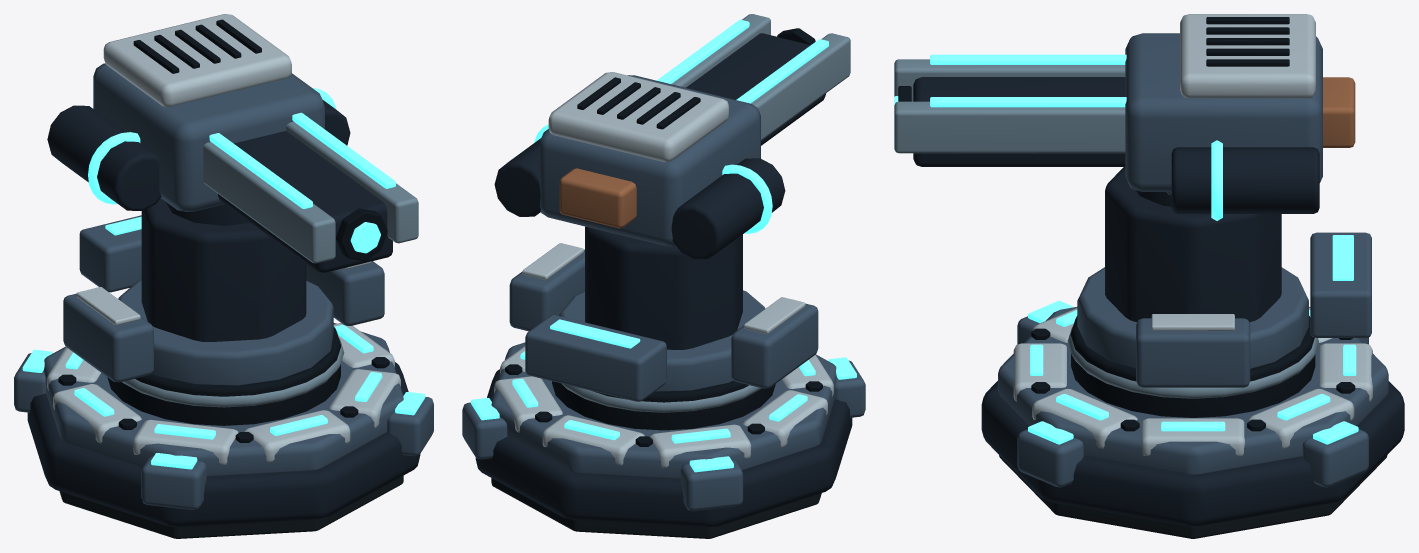
File: needle_turret.fbx
The picture shows the model from 3 angles, left to right: view 1: azimuth 30°, elevation 25°; view 2: azimuth 150°, elevation 25°; view 3: azimuth 270°, elevation 25°; orthographic projection. The views are drawn at different scales.
Parts seen in each view (by area): view 1: Recoil_Geometry, Base_Geometry, Yaw_Geometry, Tier3_Cooling_Geometry, Tier2_Capacitor_Geometry, Apex_sector_3_Geometry, Apex_sector_0_Geometry, Apex_sector_2_Geometry, Tier2_Light_07_Geometry, Tier3_Light_06_Geometry, Tier3_Light_02_Geometry; view 2: Recoil_Geometry, Base_Geometry, Yaw_Geometry, Tier3_Cooling_Geometry, Tier2_Capacitor_Geometry, Apex_sector_2_Geometry, Apex_sector_1_Geometry, Apex_sector_3_Geometry, Tier3_Light_05_Geometry; view 3: Recoil_Geometry, Base_Geometry, Yaw_Geometry, Tier3_Cooling_Geometry, Tier2_Capacitor_Geometry, Apex_sector_0_Geometry, Apex_sector_1_Geometry, Apex_sector_3_Geometry, Tier3_Light_02_Geometry, Tier3_Light_03_Geometry, Tier2_Light_01_Geometry.
Boxes of the visible parts, <box> form: Recoil_Geometry: <box>47,14,418,272</box>; Base_Geometry: <box>27,323,420,538</box>; Yaw_Geometry: <box>118,198,333,385</box>; Tier3_Cooling_Geometry: <box>63,261,384,382</box>; Tier2_Capacitor_Geometry: <box>79,215,141,292</box>; Apex_sector_3_Geometry: <box>141,453,206,509</box>; Apex_sector_0_Geometry: <box>387,392,433,456</box>; Apex_sector_2_Geometry: <box>14,349,52,412</box>; Tier2_Light_07_Geometry: <box>154,424,215,439</box>; Tier3_Light_06_Geometry: <box>74,388,114,416</box>; Tier3_Light_02_Geometry: <box>334,324,373,353</box>; Recoil_Geometry: <box>494,14,850,259</box>; Base_Geometry: <box>475,342,852,538</box>; Yaw_Geometry: <box>559,226,765,391</box>; Tier3_Cooling_Geometry: <box>509,243,818,388</box>; Tier2_Capacitor_Geometry: <box>525,315,666,401</box>; Apex_sector_2_Geometry: <box>680,456,743,511</box>; Apex_sector_1_Geometry: <box>462,398,507,459</box>; Apex_sector_3_Geometry: <box>828,357,865,417</box>; Tier3_Light_05_Geometry: <box>671,428,730,443</box>; Recoil_Geometry: <box>894,14,1355,220</box>; Base_Geometry: <box>981,307,1404,538</box>; Yaw_Geometry: <box>1077,167,1308,368</box>; Tier3_Cooling_Geometry: <box>1136,314,1250,387</box>; Tier2_Capacitor_Geometry: <box>1310,232,1371,337</box>; Apex_sector_0_Geometry: <box>1017,421,1083,487</box>; Apex_sector_1_Geometry: <box>1302,421,1368,487</box>; Apex_sector_3_Geometry: <box>1017,300,1073,344</box>; Tier3_Light_02_Geometry: <box>1161,421,1225,431</box>; Tier3_Light_03_Geometry: <box>1277,394,1330,420</box>; Tier2_Light_01_Geometry: <box>1056,394,1108,420</box>.
Bounding box in the file's own units: 1.78 × 1.94 × 2.14.
